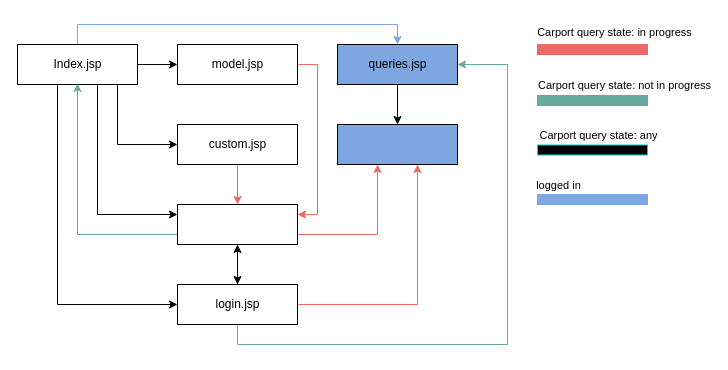
Some shapes in this 728 by 370 pixel diagram are drawn without their labels. Here are the shapes that lost their labels. From the top down, the centre of each, then its label:
the point at 397,144: query.jsp
the point at 237,224: register.jsp
